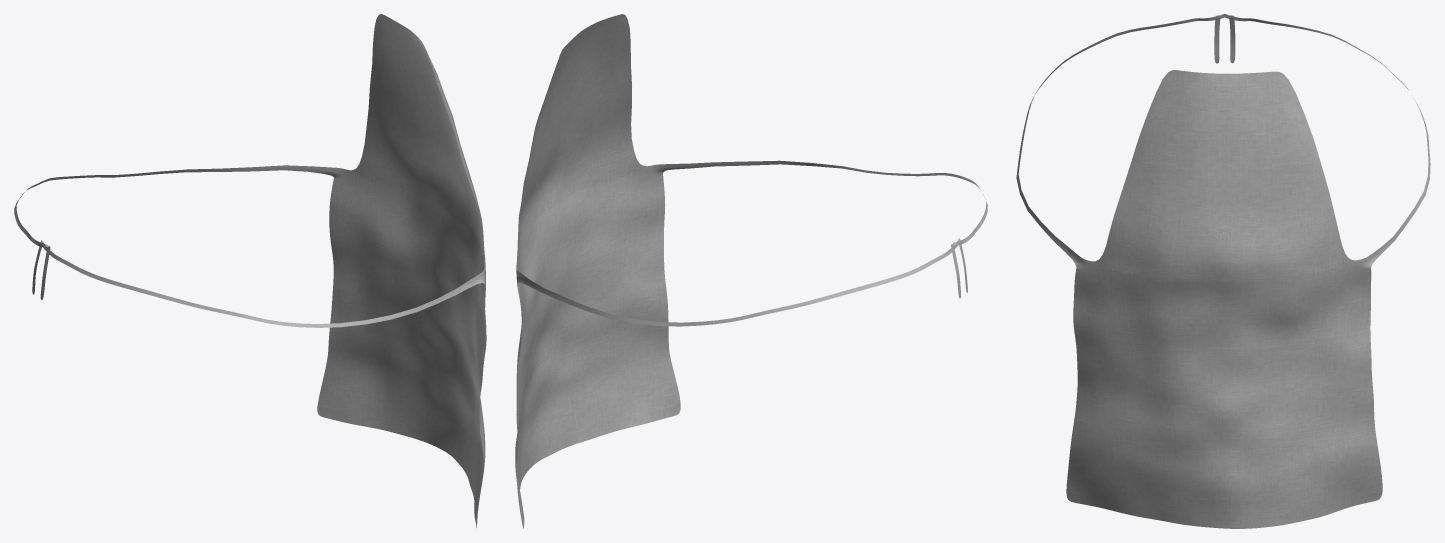
Rendered from Apron.glb.
3 views of the same model, side by side, from view 1: azimuth 30°, elevation 25°; view 2: azimuth 150°, elevation 25°; view 3: azimuth 270°, elevation 25° (orthographic).
Visible parts, largest first — view 1: Chef Apron; view 2: Chef Apron; view 3: Chef Apron.
Part boxes in pixels (left/top/right/bottom): Chef Apron: left=14, top=14, right=486, bottom=527; Chef Apron: left=515, top=14, right=987, bottom=528; Chef Apron: left=1016, top=14, right=1430, bottom=528.
Size of the model in its own units: 0.7529 by 0.7478 by 0.6447.
1 material, 1 textured.
